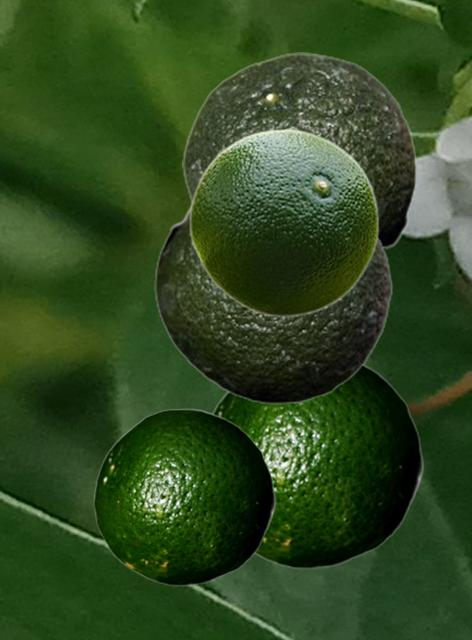calamansi: (154, 206, 392, 403), (182, 52, 416, 252), (210, 363, 423, 568), (188, 128, 379, 316), (93, 408, 275, 585)
